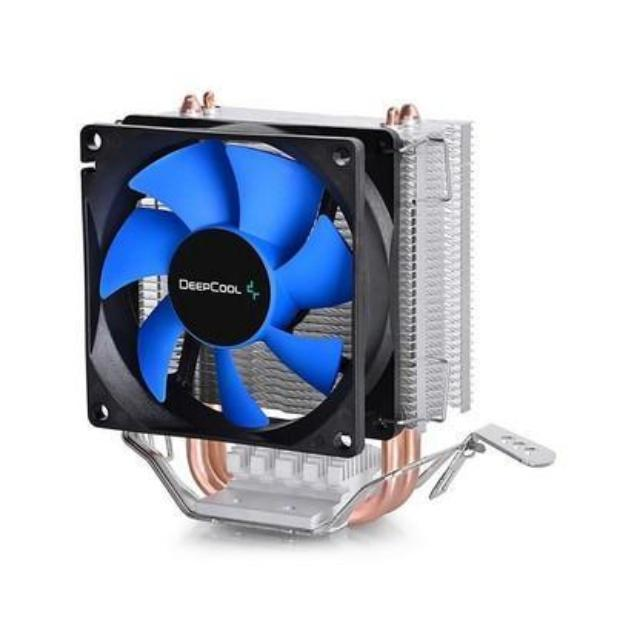CPU_Fan: (69, 76, 520, 558)
